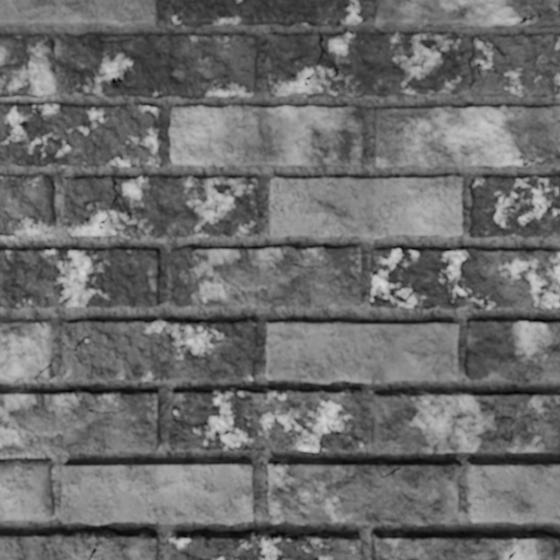brick: (267, 458, 462, 525), (267, 32, 463, 96), (62, 458, 252, 524), (65, 33, 257, 98), (169, 387, 362, 451), (62, 318, 257, 381), (266, 321, 458, 383), (371, 390, 559, 453), (269, 176, 462, 237), (63, 177, 256, 238), (170, 246, 360, 307), (169, 106, 362, 166), (370, 248, 559, 309), (374, 106, 559, 168), (0, 389, 160, 452), (0, 104, 159, 166), (0, 248, 160, 308), (464, 459, 559, 522), (169, 529, 362, 559), (465, 320, 559, 381), (470, 33, 559, 96), (469, 176, 559, 237), (371, 530, 559, 559), (374, 0, 559, 28), (170, 0, 361, 27), (0, 527, 157, 559), (0, 0, 158, 27), (62, 321, 87, 347), (527, 159, 559, 167)
broken_brick: (0, 33, 56, 98), (0, 174, 56, 236), (0, 458, 55, 521), (0, 319, 52, 379), (35, 366, 53, 380)
crack: (303, 32, 340, 86), (98, 176, 132, 229), (62, 320, 97, 363), (517, 2, 559, 24), (477, 35, 507, 56), (0, 254, 16, 287), (517, 154, 559, 166), (99, 32, 144, 43), (33, 363, 52, 379), (88, 546, 97, 559), (508, 550, 515, 559), (357, 143, 363, 150)
